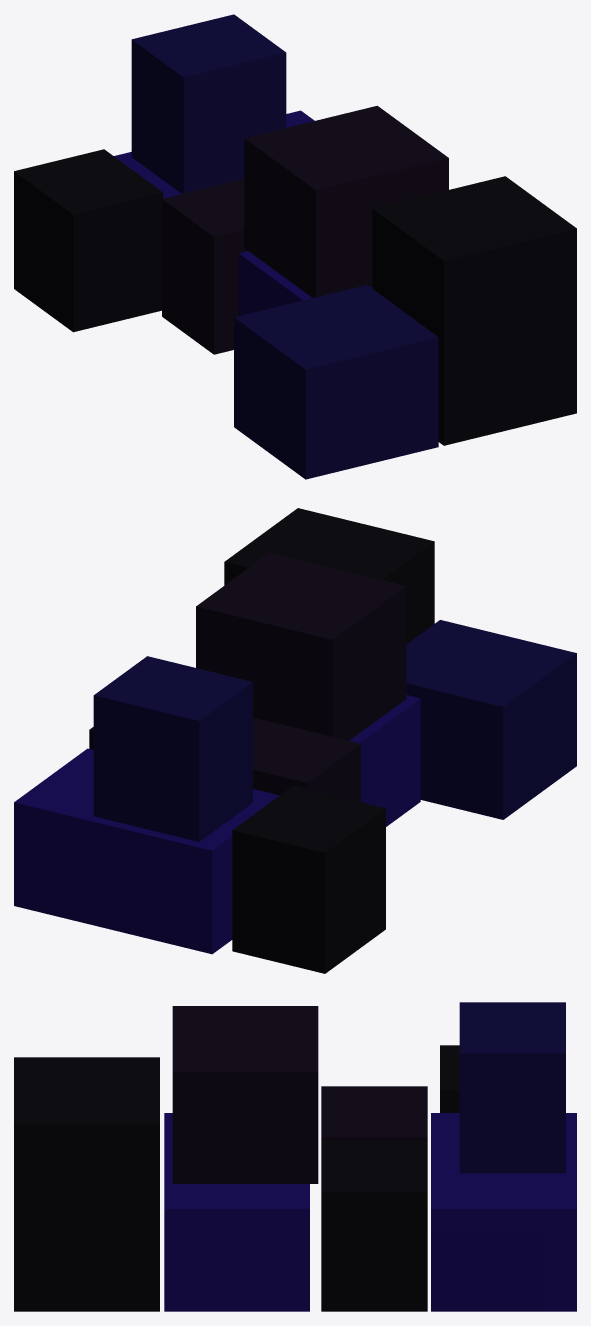
The model's file is SM_boxes.FBX.
3 renders of one model, top to bottom at view 1: azimuth 30°, elevation 25°; view 2: azimuth 150°, elevation 25°; view 3: azimuth 270°, elevation 25°, orthographic. The views are drawn at different scales.
Parts seen in each view (by area): view 1: boxes; view 2: boxes; view 3: boxes.
Boxes of the visible parts, x1=… form: boxes: x1=14, y1=14, x2=576, y2=479; boxes: x1=14, y1=508, x2=576, y2=973; boxes: x1=14, y1=1002, x2=576, y2=1311.
Size of the model in its own units: 54.71 by 38.76 by 88.79.
